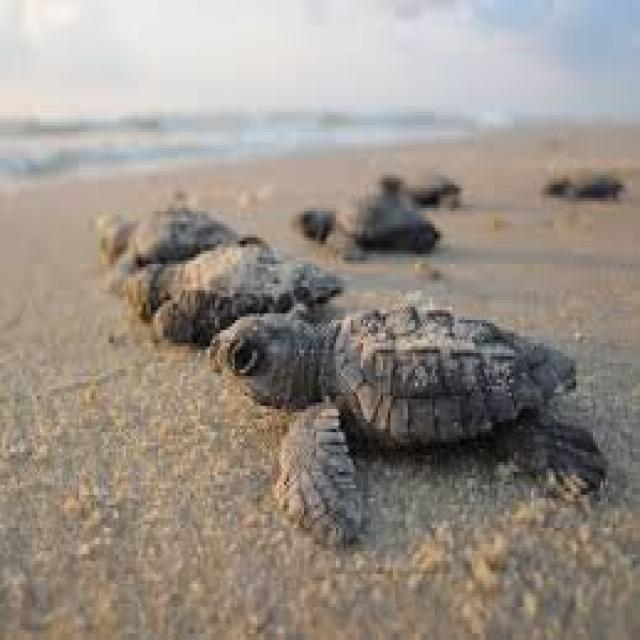turtle: (218, 312, 568, 550)
